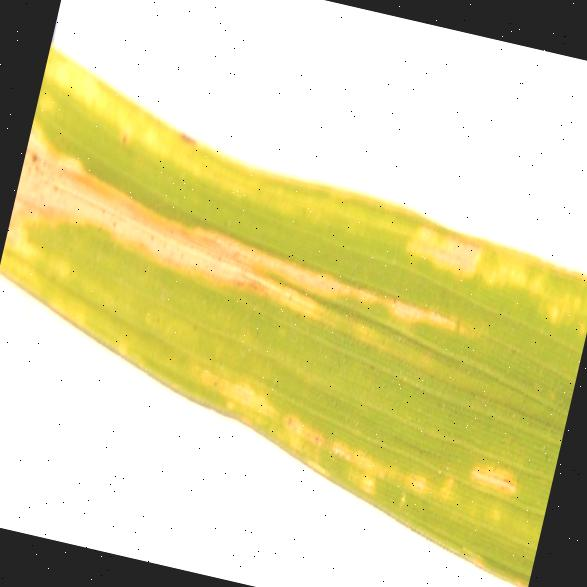Bacteria_Leaf_Blight: (0, 56, 587, 523)
